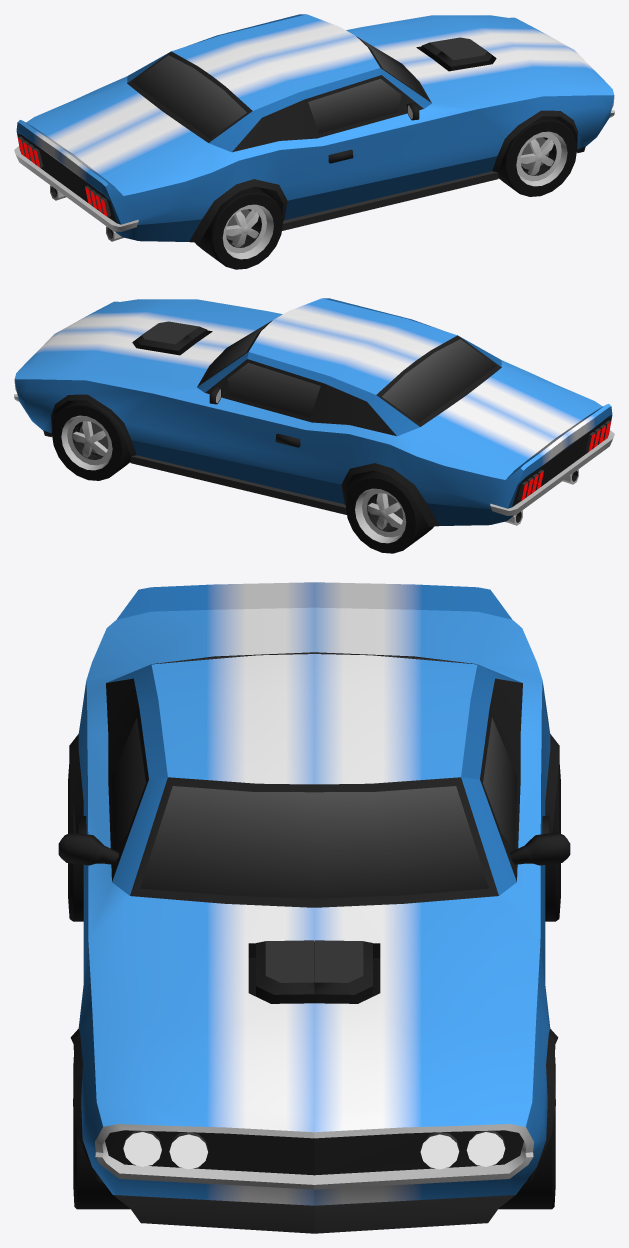
File: Car_178.glb
3 renders of one model, top to bottom at view 1: azimuth 30°, elevation 25°; view 2: azimuth 150°, elevation 25°; view 3: azimuth 270°, elevation 25°, orthographic. The views are drawn at different scales.
Parts seen in each view (by area): view 1: Car_178, wheel_3_Car_178_Wheel_2R, wheel_1_Car_178_Wheel_1R; view 2: Car_178, wheel_2_Car_178_Wheel_2L, wheel_0_Car_178_Wheel_1L; view 3: Car_178, wheel_0_Car_178_Wheel_1L, wheel_1_Car_178_Wheel_1R, wheel_2_Car_178_Wheel_2L, wheel_3_Car_178_Wheel_2R.
Boxes of the visible parts, bbox=[...] form: Car_178: bbox=[14, 14, 614, 242]; wheel_3_Car_178_Wheel_2R: bbox=[195, 186, 282, 269]; wheel_1_Car_178_Wheel_1R: bbox=[498, 116, 576, 196]; Car_178: bbox=[14, 298, 614, 526]; wheel_2_Car_178_Wheel_2L: bbox=[346, 470, 433, 553]; wheel_0_Car_178_Wheel_1L: bbox=[52, 400, 130, 480]; Car_178: bbox=[58, 582, 570, 1233]; wheel_0_Car_178_Wheel_1L: bbox=[498, 1057, 555, 1209]; wheel_1_Car_178_Wheel_1R: bbox=[73, 1057, 130, 1209]; wheel_2_Car_178_Wheel_2L: bbox=[545, 760, 560, 921]; wheel_3_Car_178_Wheel_2R: bbox=[68, 761, 83, 921].
Bounding box in the file's own units: 4.68 × 1.28 × 2.01.
Materials: 2 (2 with a texture image).
